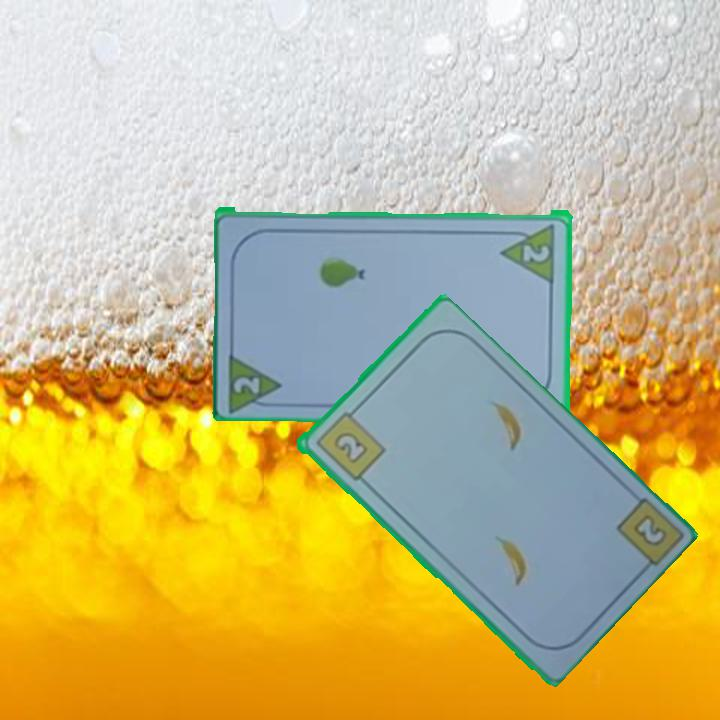2b: (311, 403, 388, 484), (629, 510, 670, 550)
2p: (519, 241, 553, 264), (230, 373, 263, 396)
